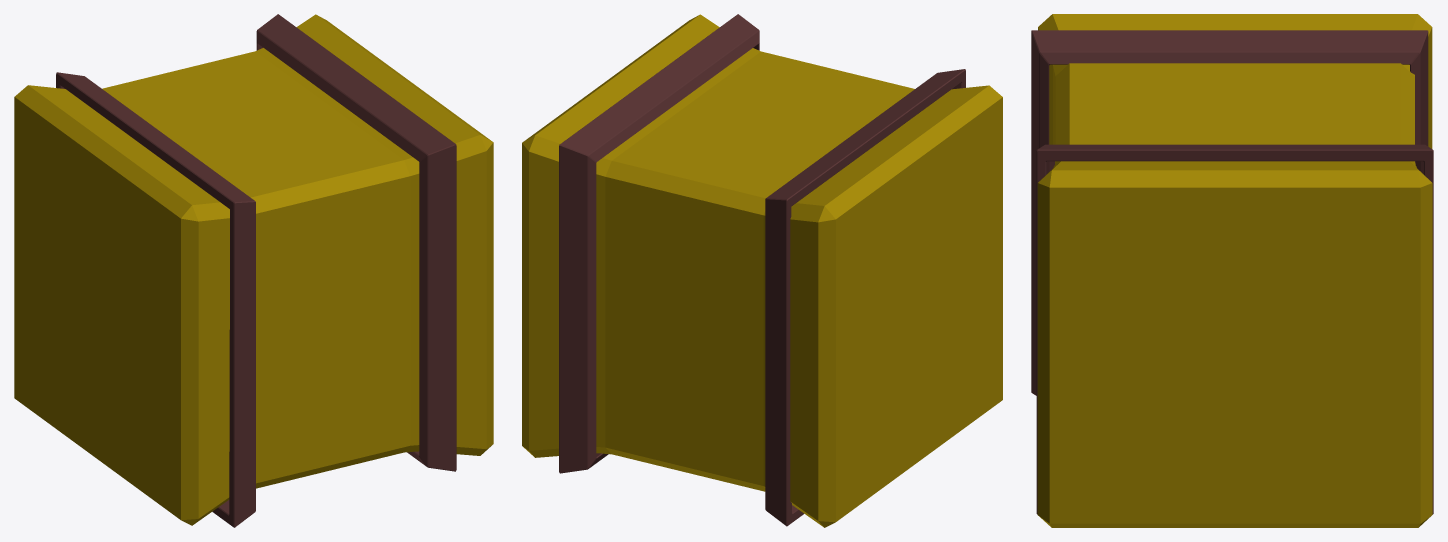
The model's file is Haybal_small (1).fbx.
The picture shows the model from 3 angles, left to right: view 1: azimuth 30°, elevation 25°; view 2: azimuth 150°, elevation 25°; view 3: azimuth 270°, elevation 25°; orthographic projection. The views are drawn at different scales.
Visible parts, largest first — view 1: Prop_Chicken_Coop_House_Deko_Haybal_small_base_geo; view 2: Prop_Chicken_Coop_House_Deko_Haybal_small_base_geo; view 3: Prop_Chicken_Coop_House_Deko_Haybal_small_base_geo.
Boxes of the visible parts, left/top/right/bottom form: Prop_Chicken_Coop_House_Deko_Haybal_small_base_geo: left=14, top=14, right=493, bottom=527; Prop_Chicken_Coop_House_Deko_Haybal_small_base_geo: left=522, top=14, right=1002, bottom=527; Prop_Chicken_Coop_House_Deko_Haybal_small_base_geo: left=1031, top=14, right=1433, bottom=527.
Bounding box in the file's own units: 62.1 × 62.23 × 62.21.
